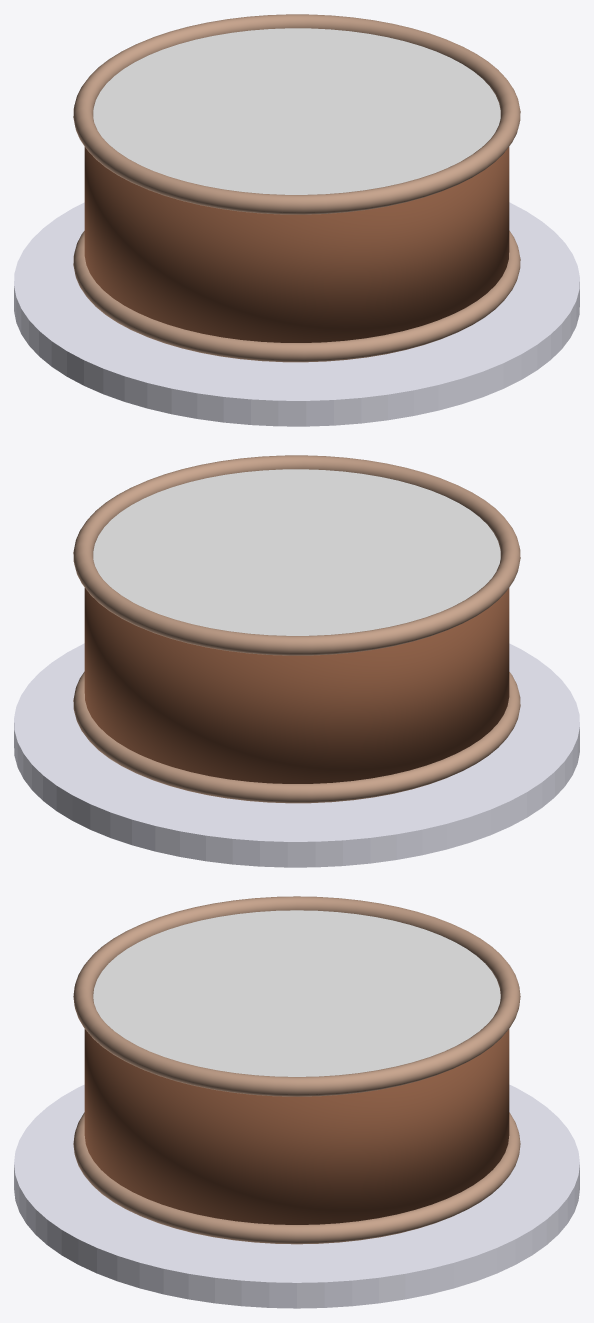
The model's file is round_chocolate_image.glb.
The picture shows the model from 3 angles, top to bottom: view 1: azimuth 30°, elevation 25°; view 2: azimuth 150°, elevation 25°; view 3: azimuth 270°, elevation 25°; orthographic projection.
Parts seen in each view (by area): view 1: CakeBase, CakeTopImage, IcingStand, IcingRing, IcingRing.001; view 2: CakeBase, CakeTopImage, IcingStand, IcingRing, IcingRing.001; view 3: CakeBase, CakeTopImage, IcingStand, IcingRing, IcingRing.001.
Part boxes in pixels (left/top/right/bottom): CakeBase: left=84, top=147, right=509, bottom=342; CakeTopImage: left=93, top=28, right=500, bottom=194; IcingStand: left=14, top=202, right=579, bottom=426; IcingRing: left=73, top=14, right=520, bottom=214; IcingRing.001: left=73, top=230, right=520, bottom=362; CakeBase: left=84, top=588, right=509, bottom=783; CakeTopImage: left=93, top=469, right=500, bottom=635; IcingStand: left=14, top=643, right=579, bottom=867; IcingRing: left=73, top=455, right=520, bottom=655; IcingRing.001: left=73, top=671, right=520, bottom=803; CakeBase: left=84, top=1029, right=509, bottom=1224; CakeTopImage: left=93, top=910, right=500, bottom=1076; IcingStand: left=14, top=1084, right=579, bottom=1308; IcingRing: left=73, top=896, right=520, bottom=1096; IcingRing.001: left=73, top=1112, right=520, bottom=1244.
Size of the model in its own units: 4 by 1.57 by 4.
